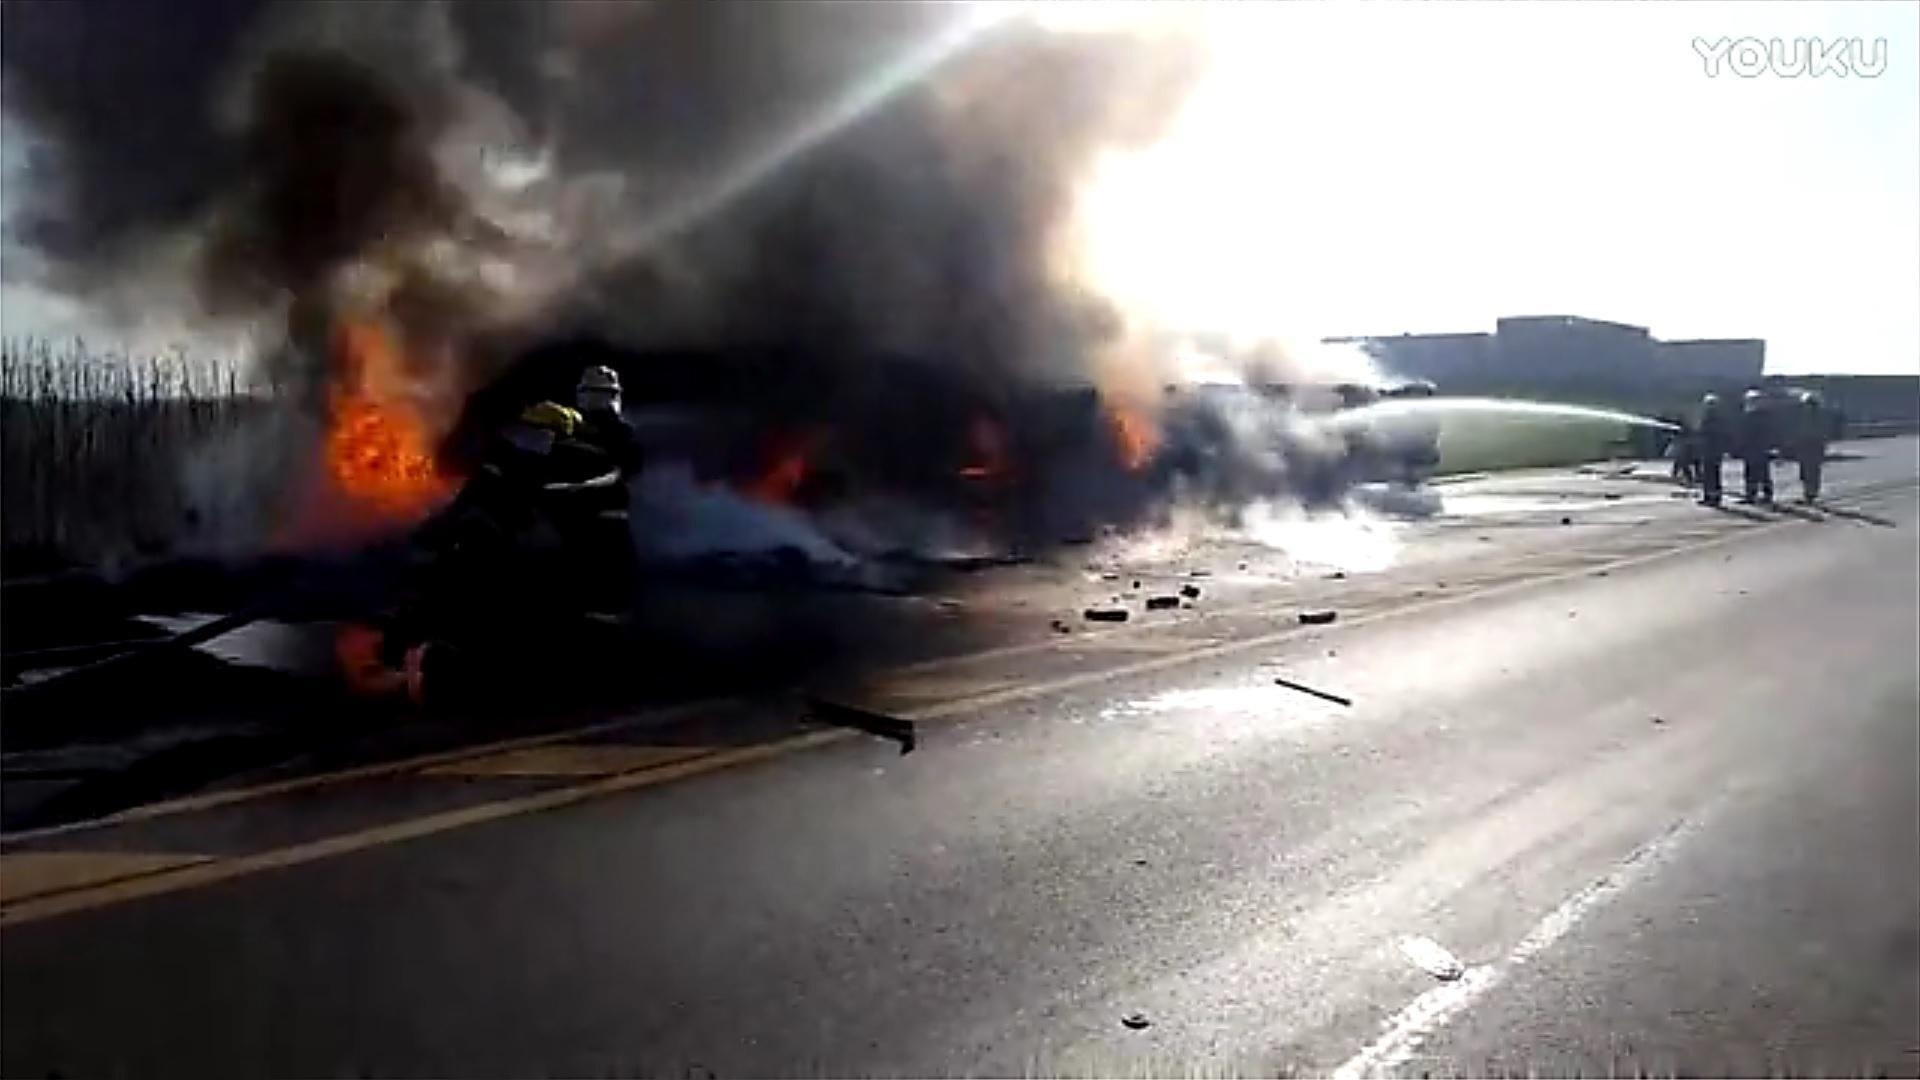fire: (322, 332, 444, 518), (1112, 404, 1158, 465)
